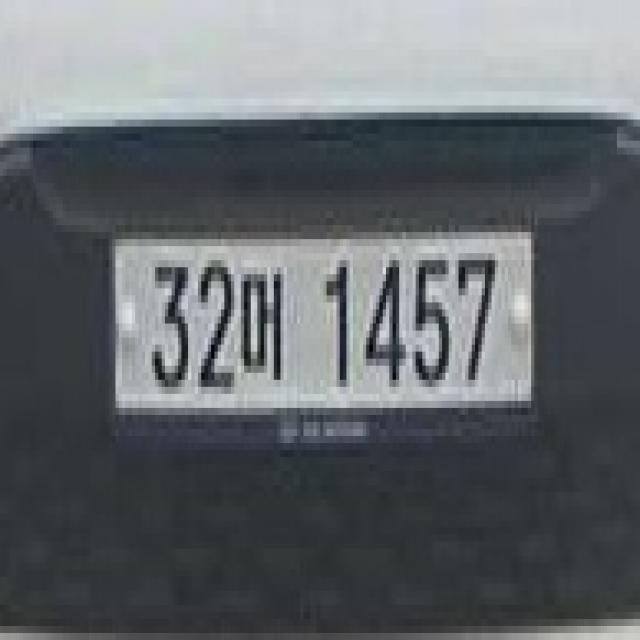1: (323, 253, 353, 387)
2: (198, 260, 234, 394)
3: (152, 260, 191, 394)
4: (360, 253, 409, 387)
5: (409, 246, 452, 387)
7: (455, 253, 495, 380)
license_plate: (112, 225, 535, 422)
meo: (238, 260, 284, 387)
